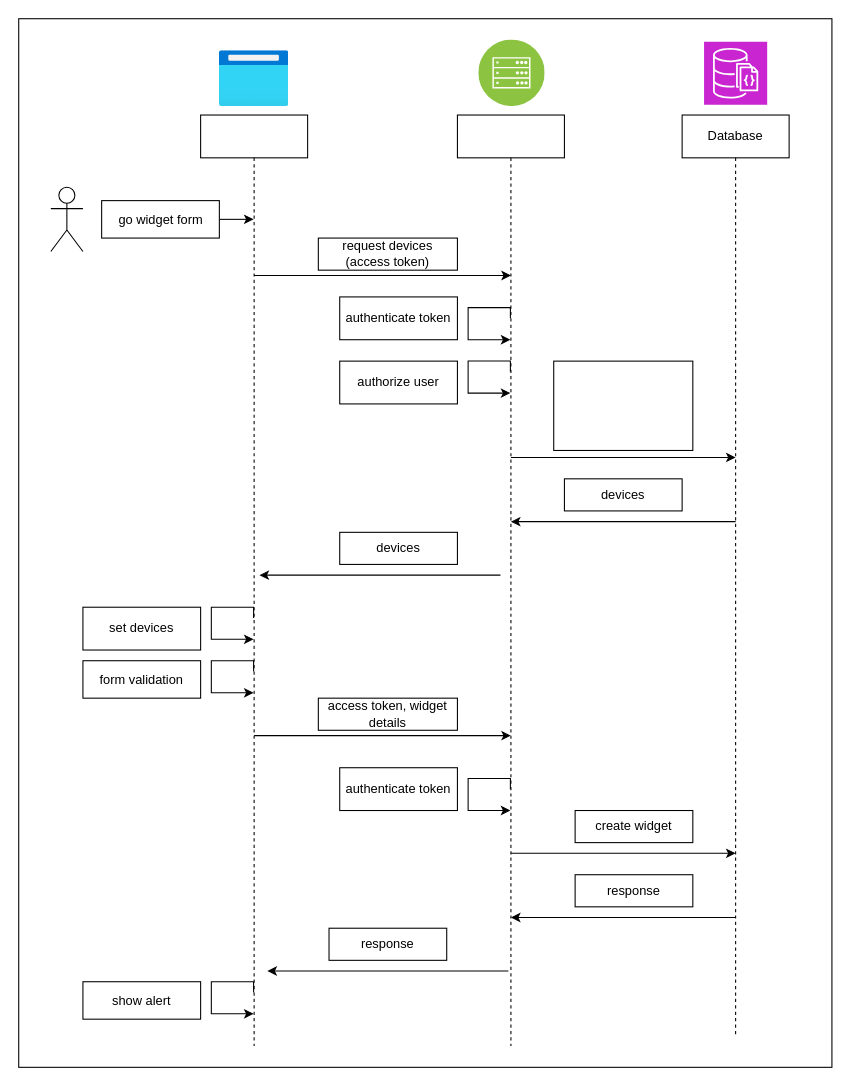
This 851x1086 diagram has some shape labels left out. The shapes that lost their labels are listed below. From the top down, each one's box as (x1, y1, x2, y2) in pixels, then its label:
(50, 186, 83, 251): User
(553, 360, 693, 450): for admin, find all devices for farmer, finf device by userid
(200, 114, 308, 1046): Frontend
(456, 114, 564, 1046): Backend
